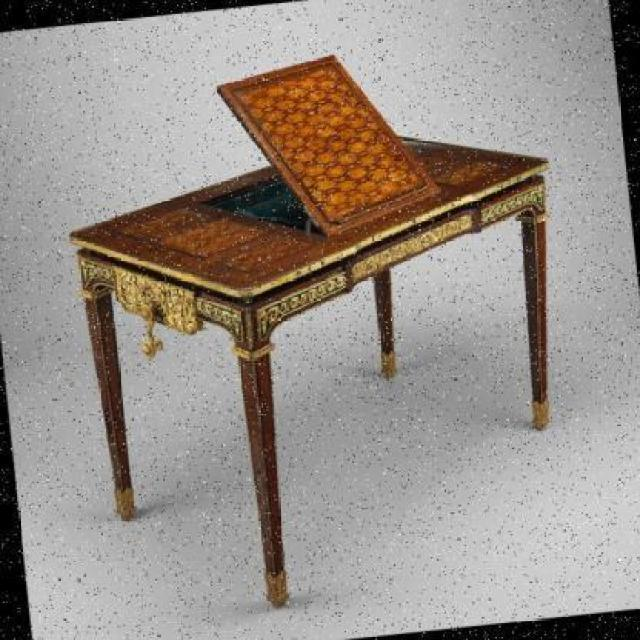tables: (68, 132, 550, 606)
